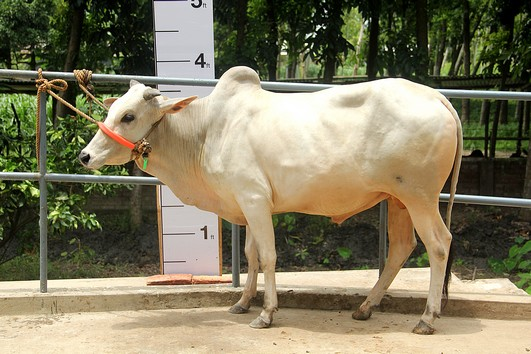cow: (73, 55, 469, 337)
